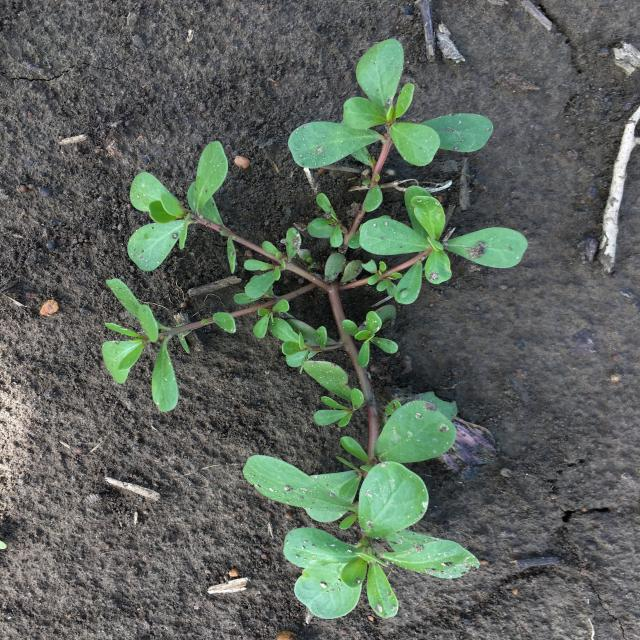Purslane: (101, 38, 528, 619)
